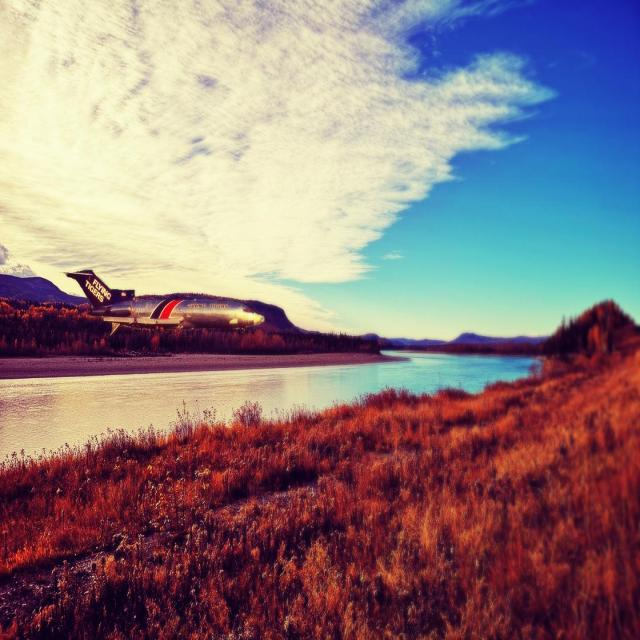airplane: (64, 268, 266, 336)
